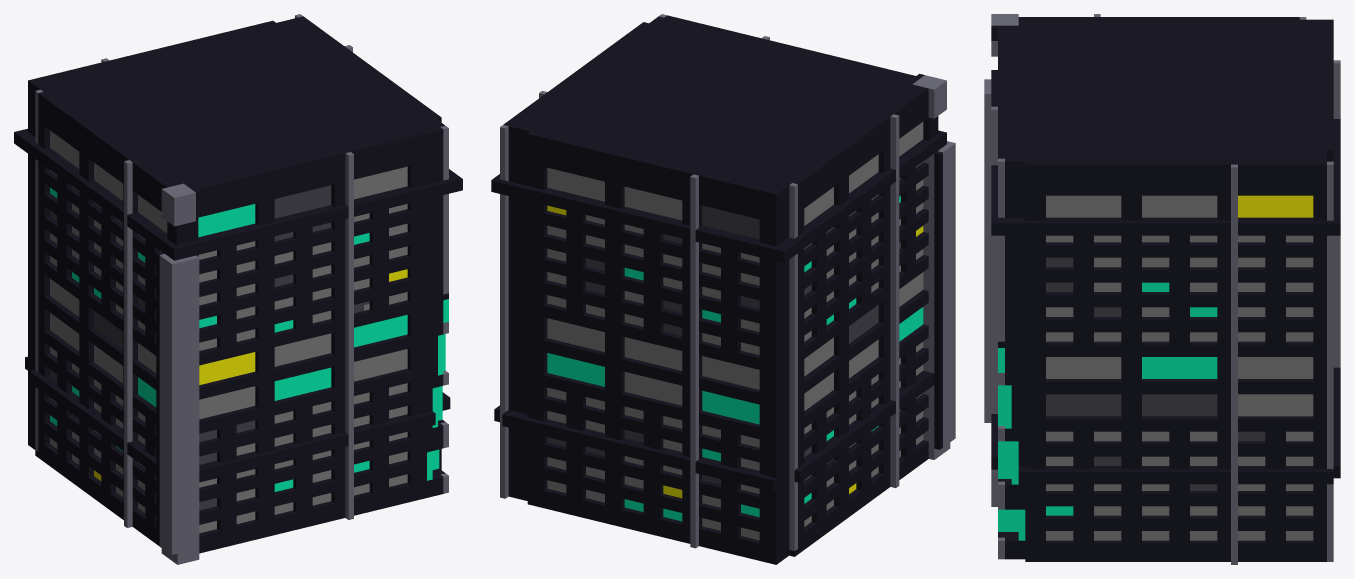
The model's file is LandMark_001.obj.
3 views of the same model, side by side, from view 1: azimuth 30°, elevation 25°; view 2: azimuth 150°, elevation 25°; view 3: azimuth 270°, elevation 25° (orthographic). The views are drawn at different scales.
Size of the model in its own units: 5.4 by 6.4 by 5.2.
1 material, 1 textured.
